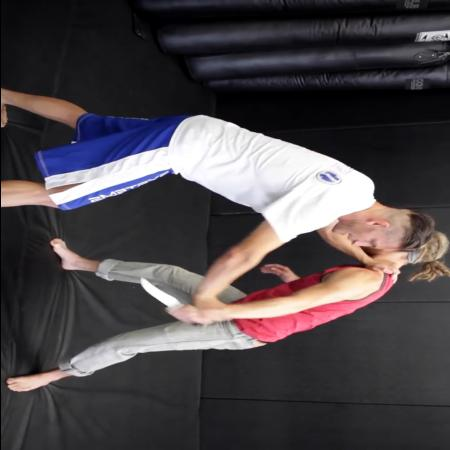long weapon: (135, 275, 210, 330)
